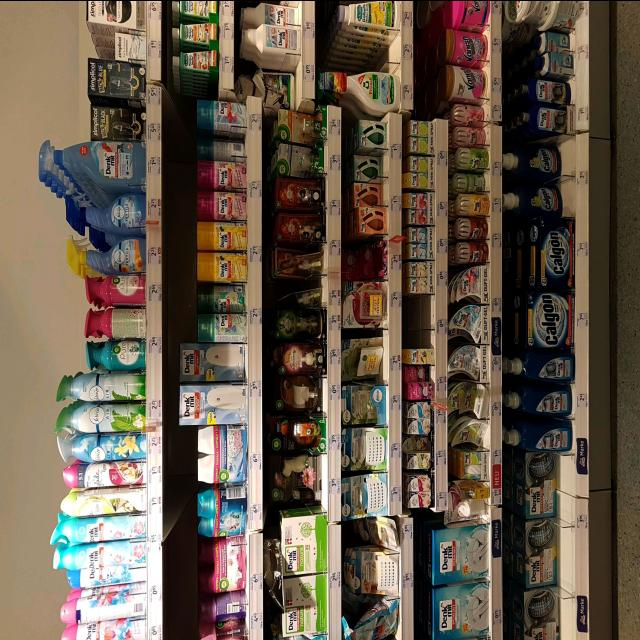empty_space: (332, 35, 397, 61), (404, 301, 428, 335)
